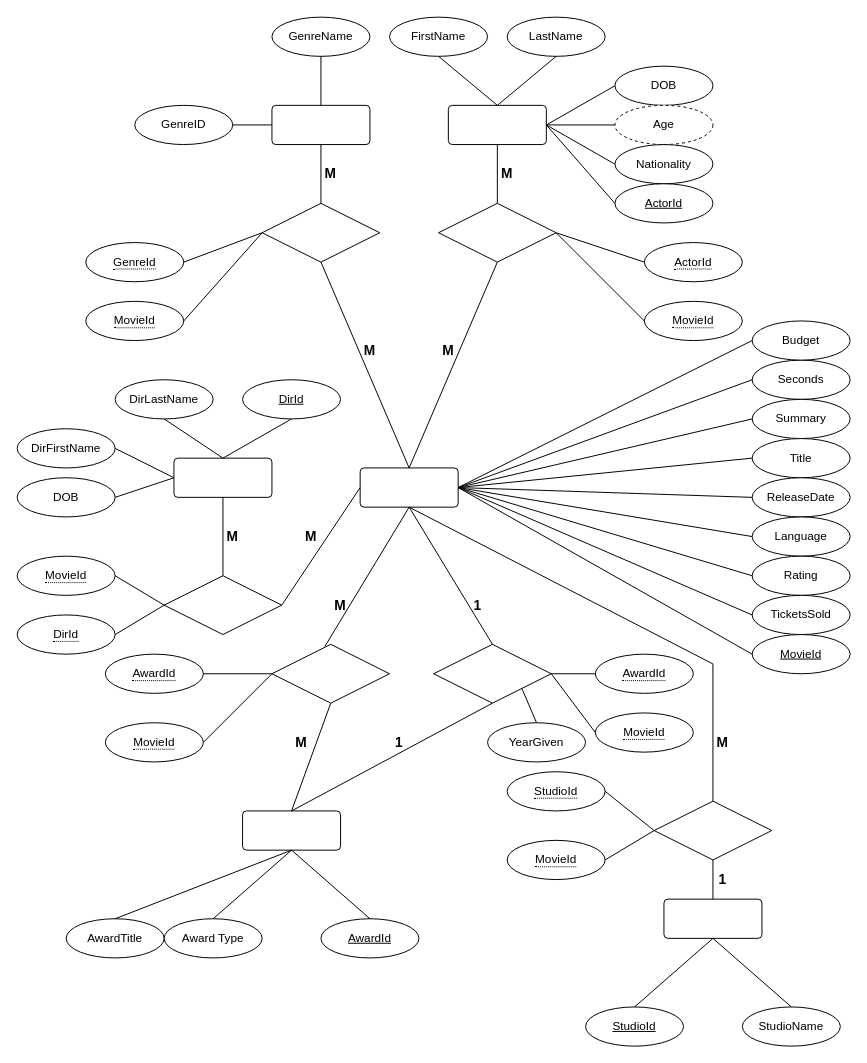
The diagram is 867 pixels wide and 1063 high, and some of its shapes have lost their labels. Each missing label, with the centre of its shape:
"Actor" belongs at point 496,124.
"ActsIn" belongs at point 497,232.
"Award" belongs at point 291,830.
"Describes" belongs at point 320,232.
"DirectedBy" belongs at point 222,605.
"Director" belongs at point 222,477.
"Genre" belongs at point 320,124.
"Movie" belongs at point 408,487.
"NominatedFor" belongs at point 330,673.
"Produces" belongs at point 712,830.
"ProductionStudio" belongs at point 712,918.
"Wins" belongs at point 492,673.
